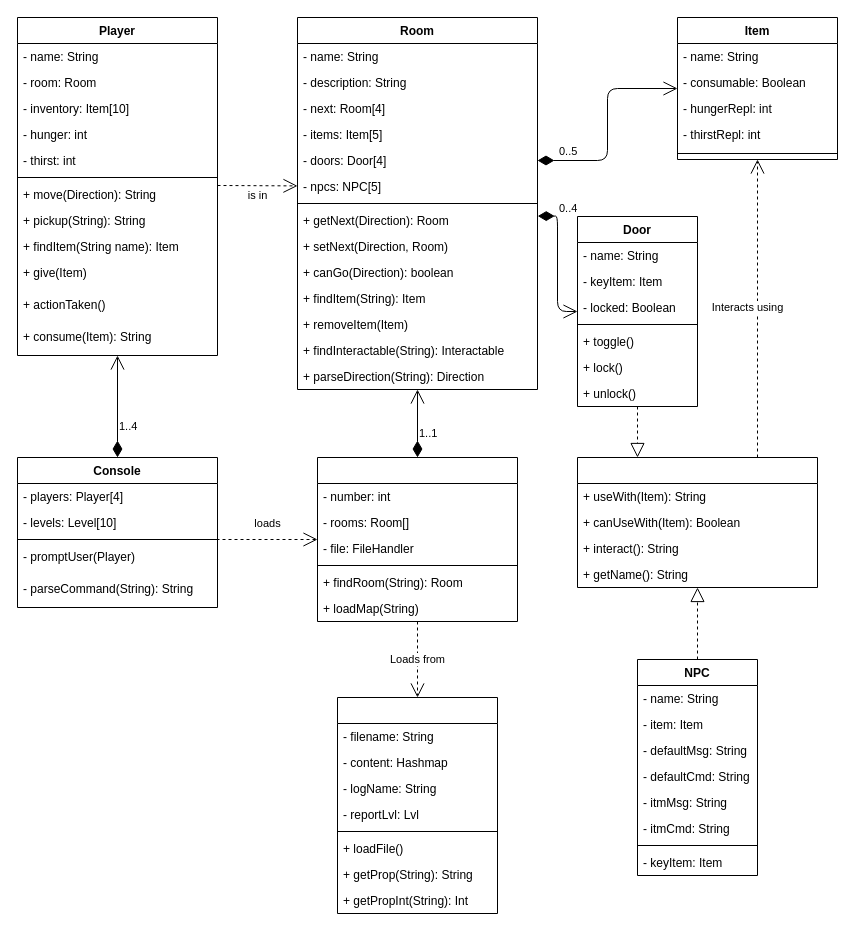
The diagram is 855 pixels wide and 934 high, and some of its shapes have lost their labels. The shapes that lost their labels are listed below. From the top down, each one's box as (x1, y1, x2, y2) in pixels, then its label:
(316, 456, 518, 622): Level
(576, 456, 818, 588): Interactable
(336, 696, 498, 914): FileHandler
